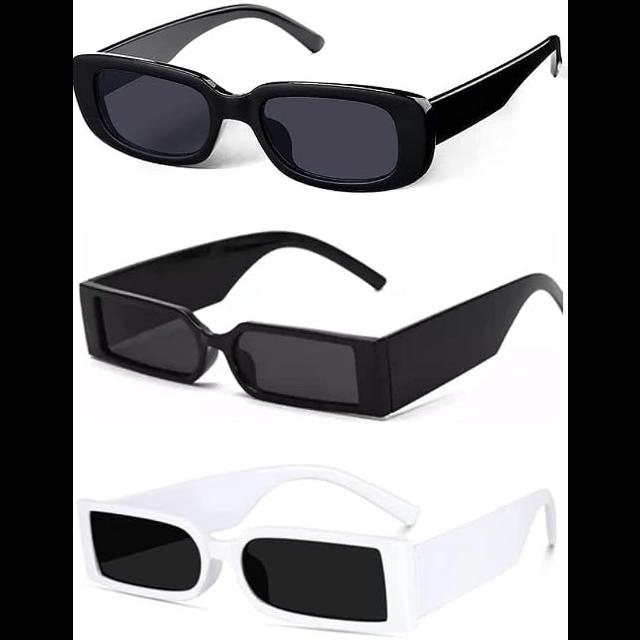Sunglasses: (77, 227, 568, 423), (73, 4, 560, 196), (74, 463, 562, 632)
